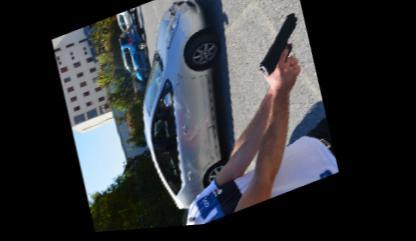pistol: (246, 14, 312, 82)
